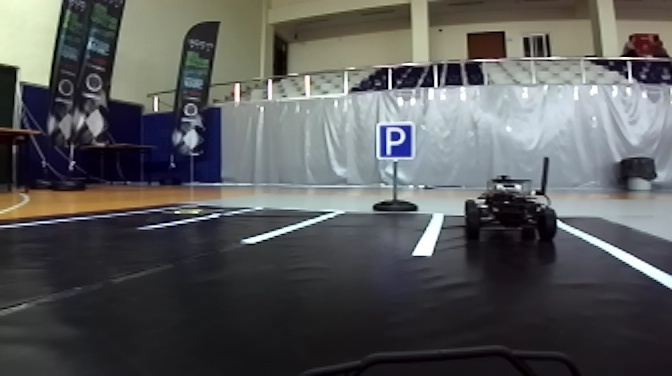park: (374, 121, 418, 161)
